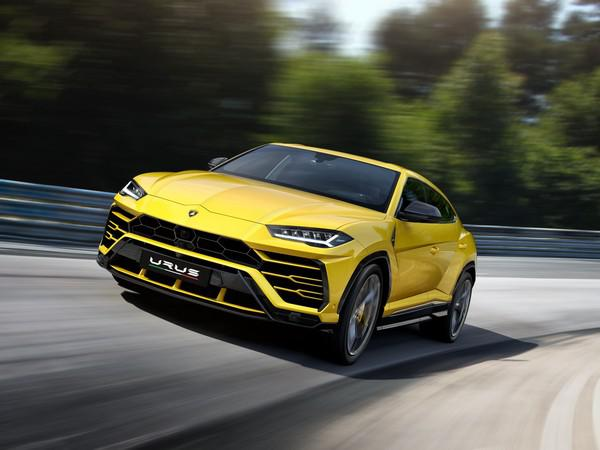car: (93, 129, 485, 365)
